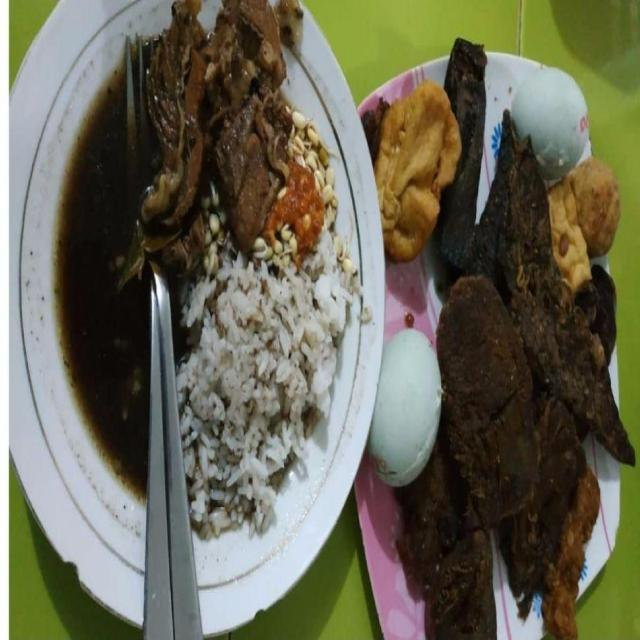Rawon: (50, 38, 327, 550)
